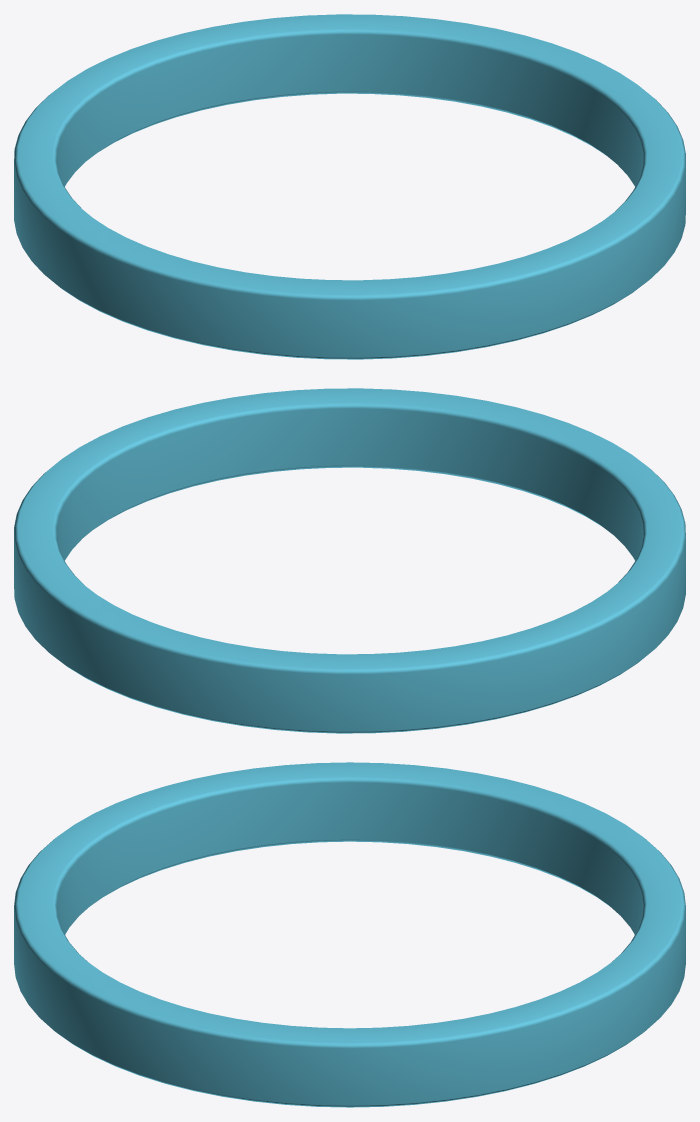
3 views of the same model, one above another, from view 1: azimuth 30°, elevation 25°; view 2: azimuth 150°, elevation 25°; view 3: azimuth 270°, elevation 25° (orthographic).
Parts seen in each view (by area): view 1: seal_body; view 2: seal_body; view 3: seal_body.
Part boxes in pixels (bbox=[...]): seal_body: bbox=[14, 14, 685, 359]; seal_body: bbox=[14, 388, 685, 733]; seal_body: bbox=[14, 762, 685, 1107].
Bounding box in the file's own units: 0.1492 × 0.0159 × 0.1492.
